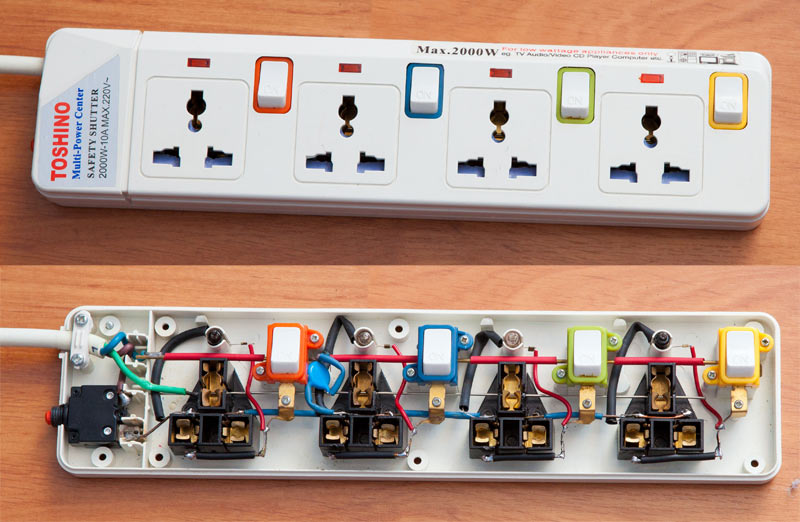Three_eye_plug: (24, 22, 784, 244), (41, 299, 785, 488)
